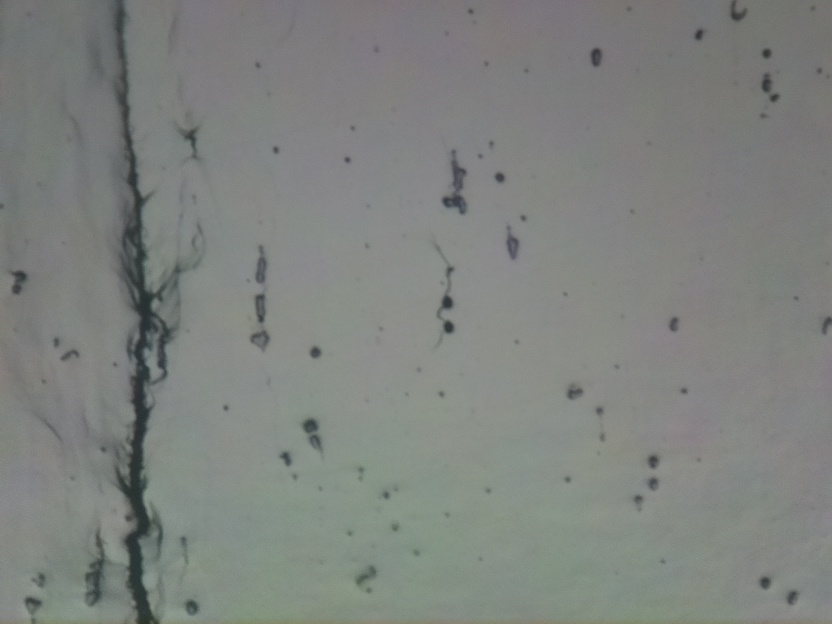crack: (118, 0, 169, 623)
